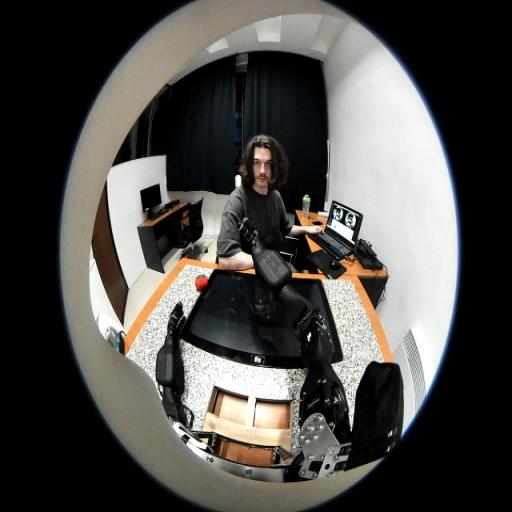LeftHand: (167, 318, 179, 337)
RightHand: (250, 231, 259, 247)
Tomato: (195, 275, 208, 290)
